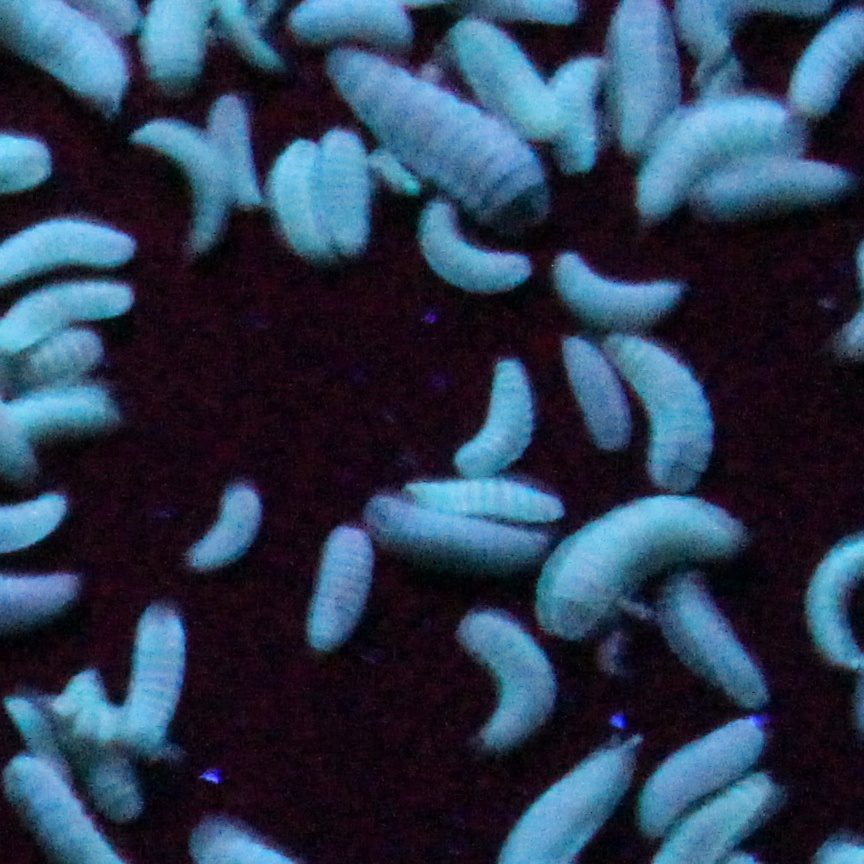larve: (327, 44, 539, 213), (539, 488, 748, 628), (634, 101, 807, 208), (605, 331, 718, 494), (636, 717, 759, 842), (455, 606, 557, 756), (355, 488, 550, 563), (452, 13, 568, 138), (146, 119, 234, 251), (439, 358, 536, 476), (416, 199, 539, 290), (550, 249, 684, 331), (673, 588, 766, 706), (309, 510, 377, 658), (121, 599, 182, 753), (198, 85, 268, 210), (696, 160, 859, 213), (557, 326, 623, 451), (411, 474, 573, 524), (186, 476, 271, 565), (321, 133, 382, 256), (268, 133, 318, 260), (557, 53, 607, 176), (23, 326, 102, 381), (371, 151, 427, 199), (9, 392, 132, 413)
